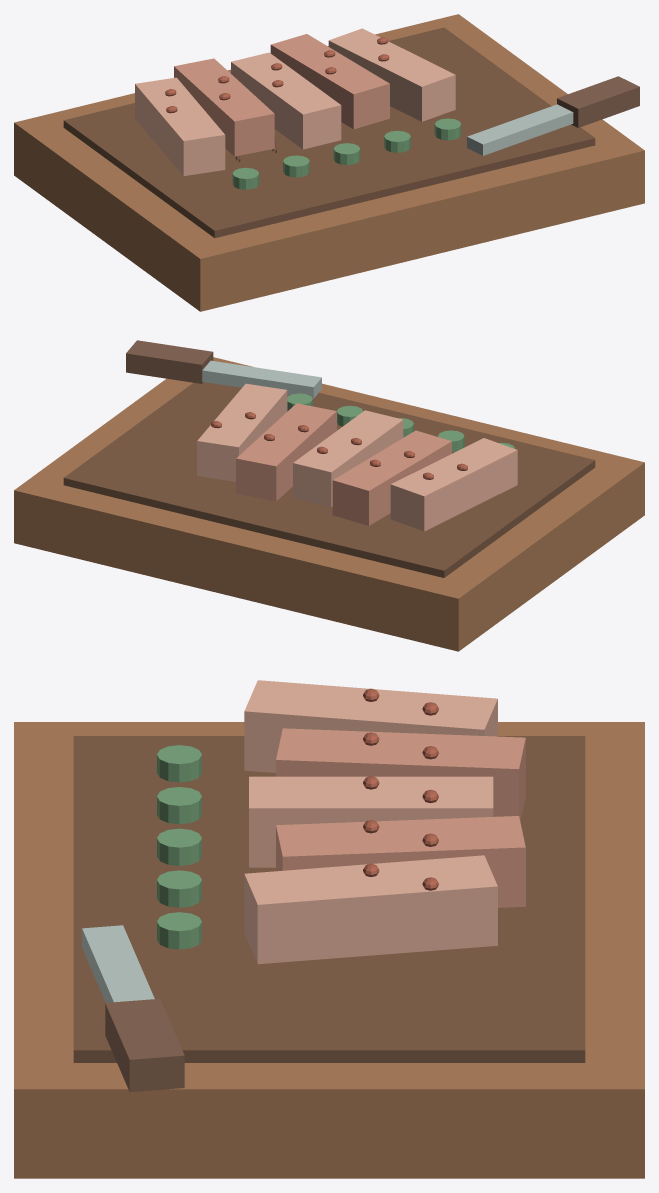
File: sliced_chicken_spice.glb
3 views of the same model, one above another, from view 1: azimuth 30°, elevation 25°; view 2: azimuth 150°, elevation 25°; view 3: azimuth 270°, elevation 25° (orthographic). The views are drawn at different scales.
Visible parts, largest first — view 1: chicken_spice_rounded_board_body, chicken_spice_rounded_board_inset, cut_chicken_strip_0, cut_chicken_strip_2, cut_chicken_strip_4, cut_chicken_strip_3, cut_chicken_strip_1, chicken_spice_knife_handle, chicken_spice_knife_blade, cut_spring_onion_0, cut_spring_onion_2, cut_spring_onion_4 (+2 smaller); view 2: chicken_spice_rounded_board_body, chicken_spice_rounded_board_inset, cut_chicken_strip_0, cut_chicken_strip_3, cut_chicken_strip_1, cut_chicken_strip_2, cut_chicken_strip_4, chicken_spice_knife_handle, chicken_spice_knife_blade; view 3: chicken_spice_rounded_board_body, chicken_spice_rounded_board_inset, cut_chicken_strip_4, cut_chicken_strip_0, cut_chicken_strip_2, cut_chicken_strip_1, cut_chicken_strip_3, chicken_spice_knife_handle, chicken_spice_knife_blade, cut_spring_onion_4, cut_spring_onion_3, cut_spring_onion_0 (+2 smaller).
Boxes of the visible parts, x1,y1,x2,y2 form: chicken_spice_rounded_board_body: (14,14,644,311); chicken_spice_rounded_board_inset: (63,27,595,237); cut_chicken_strip_0: (135,77,225,175); cut_chicken_strip_2: (231,52,341,149); cut_chicken_strip_4: (328,28,455,121); cut_chicken_strip_3: (270,34,389,129); cut_chicken_strip_1: (174,58,274,156); chicken_spice_knife_handle: (557,76,639,127); chicken_spice_knife_blade: (467,104,573,155); cut_spring_onion_0: (232,167,259,189); cut_spring_onion_2: (333,143,360,165); cut_spring_onion_4: (434,118,461,140); chicken_spice_rounded_board_body: (14,357,644,651); chicken_spice_rounded_board_inset: (63,382,595,577); cut_chicken_strip_0: (390,438,517,531); cut_chicken_strip_3: (236,403,336,501); cut_chicken_strip_1: (332,430,451,525); cut_chicken_strip_2: (293,410,403,507); cut_chicken_strip_4: (197,383,287,481); chicken_spice_knife_handle: (126,340,213,383); chicken_spice_knife_blade: (202,360,321,398); chicken_spice_rounded_board_body: (14,722,644,1178); chicken_spice_rounded_board_inset: (73,736,585,1062); cut_chicken_strip_4: (244,855,497,964); cut_chicken_strip_0: (244,680,497,772); cut_chicken_strip_2: (249,776,493,867); cut_chicken_strip_1: (276,728,525,821); cut_chicken_strip_3: (276,816,525,907); chicken_spice_knife_handle: (105,998,184,1092); chicken_spice_knife_blade: (82,925,154,1002); cut_spring_onion_4: (157,912,201,949); cut_spring_onion_3: (157,870,201,907); cut_spring_onion_0: (157,745,201,782).
Bounding box in the file's own units: 0.7778 × 0.1715 × 0.53.
